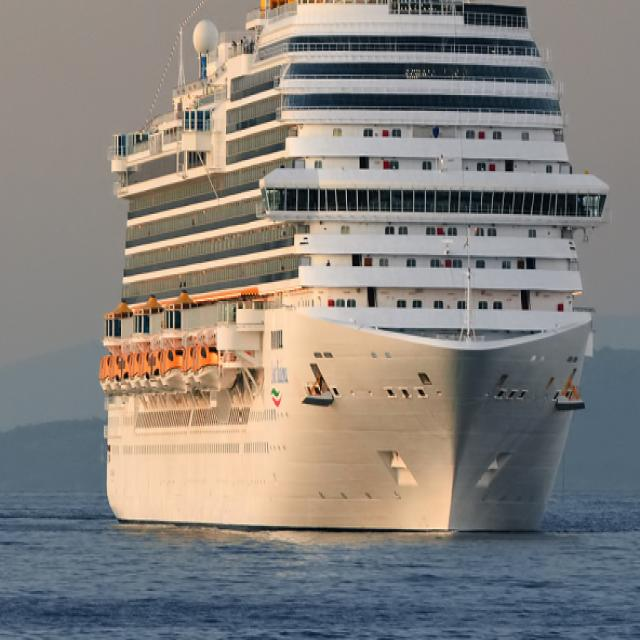cruises: (92, 1, 621, 562)
